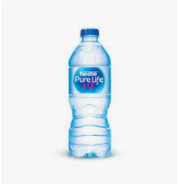Bottle: (68, 28, 113, 159)
